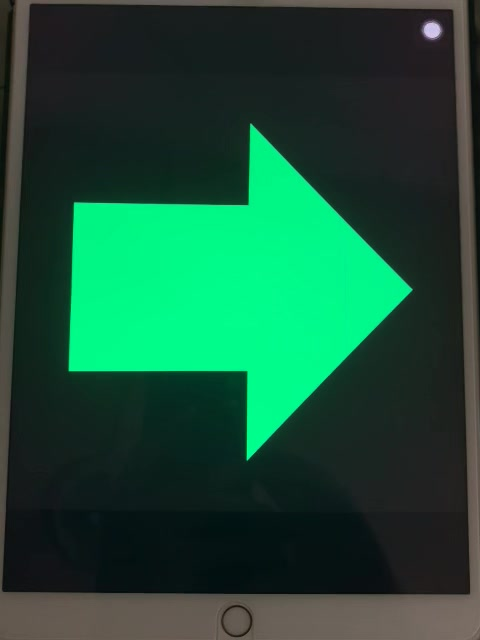right: (65, 117, 415, 471)
